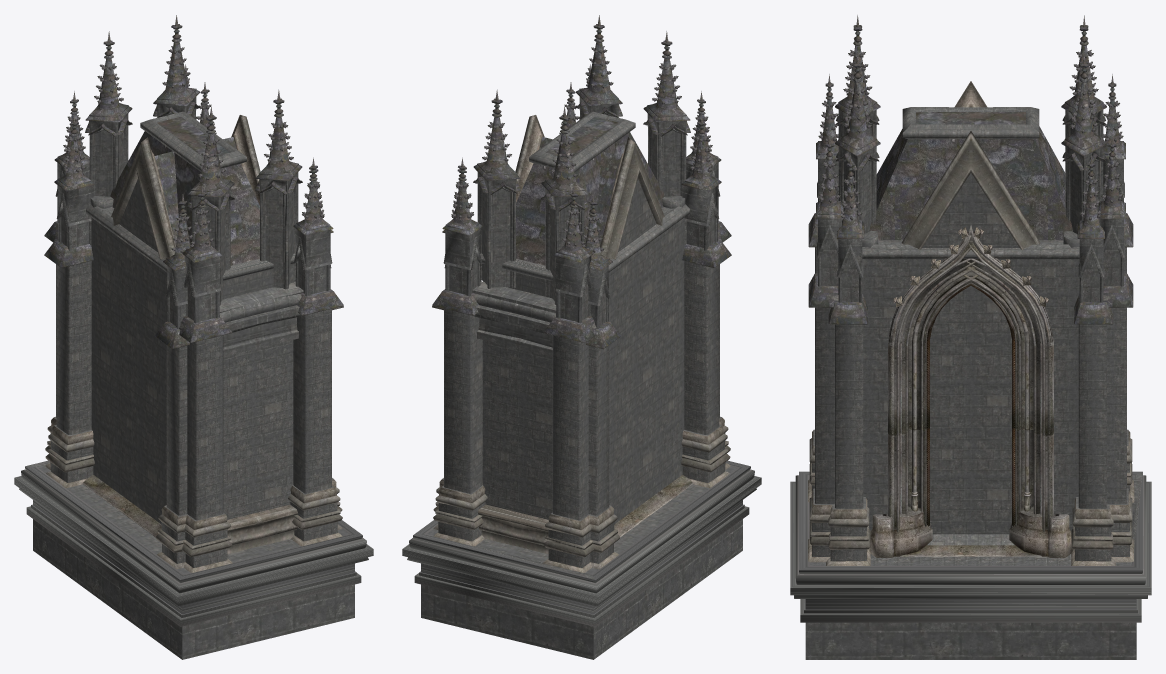
The model's file is AEG004_598-transformed.glb.
3 renders of one model, left to right at view 1: azimuth 30°, elevation 25°; view 2: azimuth 150°, elevation 25°; view 3: azimuth 270°, elevation 25°, orthographic. The views are drawn at different scales.
Visible parts, largest first — view 1: default; view 2: default; view 3: default.
Part boxes in pixels (<box>): default: <box>14,15,373,659</box>; default: <box>402,15,761,659</box>; default: <box>790,15,1151,659</box>.
Size of the model in its own units: 2.43 by 6.2 by 3.49.
4 materials, 4 textured.
